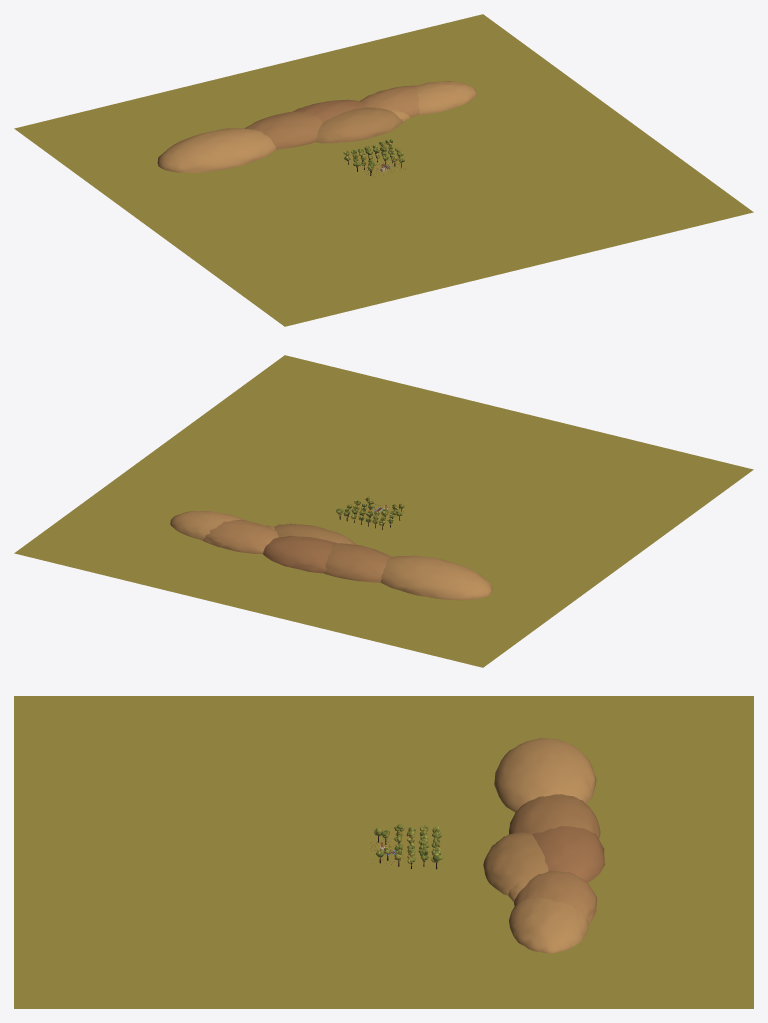
File: A_garden.glb
3 renders of one model, top to bottom at view 1: azimuth 30°, elevation 25°; view 2: azimuth 150°, elevation 25°; view 3: azimuth 270°, elevation 25°, orthographic. The views are drawn at different scales.
Visible parts, largest first — view 1: environment_0, environment_1, environment_6, environment_4, environment_2, environment_5; view 2: environment_0, environment_1, environment_4, environment_5, environment_2, environment_6; view 3: environment_0, environment_1, environment_5, environment_6, environment_4, environment_2.
Boxes of the visible parts, bbox=[...] form: environment_0: bbox=[14, 14, 753, 326]; environment_1: bbox=[157, 81, 476, 172]; environment_6: bbox=[315, 107, 402, 143]; environment_4: bbox=[245, 111, 322, 149]; environment_2: bbox=[360, 85, 420, 117]; environment_5: bbox=[293, 99, 367, 122]; environment_0: bbox=[14, 355, 753, 667]; environment_1: bbox=[170, 511, 492, 600]; environment_4: bbox=[323, 543, 391, 582]; environment_5: bbox=[263, 535, 336, 573]; environment_2: bbox=[202, 519, 278, 553]; environment_6: bbox=[274, 523, 356, 544]; environment_0: bbox=[14, 696, 753, 1008]; environment_1: bbox=[494, 738, 596, 953]; environment_5: bbox=[532, 826, 604, 882]; environment_6: bbox=[483, 832, 548, 895]; environment_4: bbox=[509, 794, 600, 838]; environment_2: bbox=[514, 870, 596, 923].
Size of the model in its own units: 200 by 15.42 by 200.
55 materials, 2 textured.
